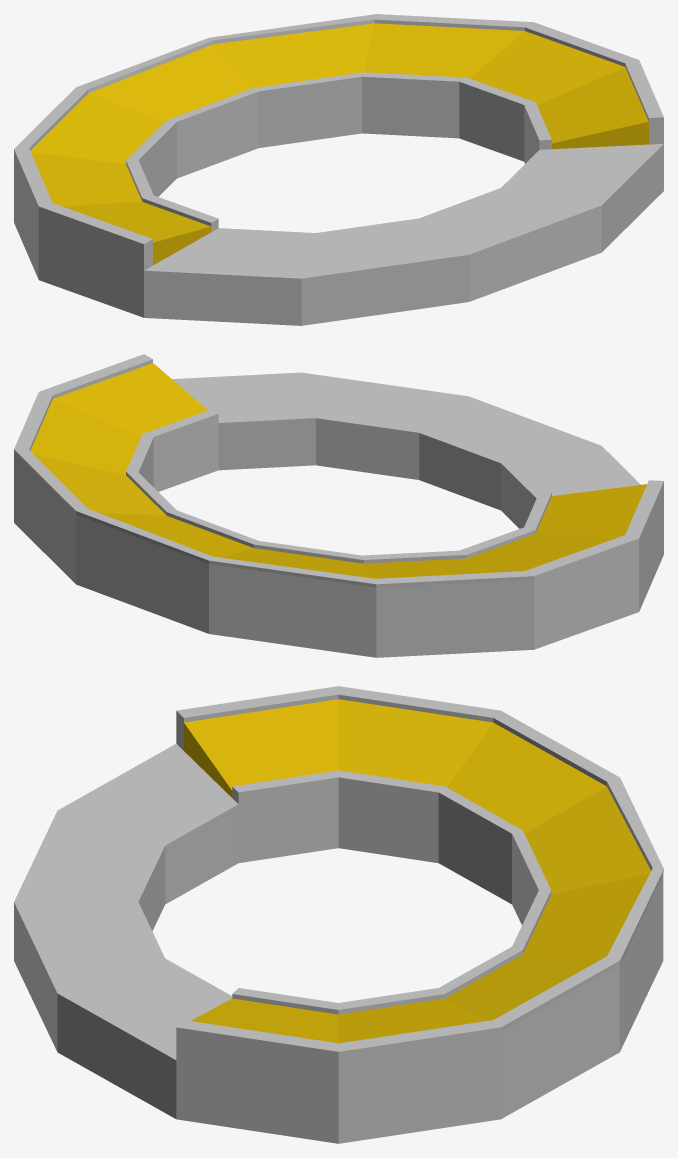
The model's file is arena_v2.fbx.
3 renders of one model, top to bottom at view 1: azimuth 30°, elevation 25°; view 2: azimuth 150°, elevation 25°; view 3: azimuth 270°, elevation 25°, orthographic. The views are drawn at different scales.
Visible parts, largest first — view 1: arena; view 2: arena; view 3: arena.
Part boxes in pixels (x1,y1,x2,y2): arena: [14, 14, 663, 325]; arena: [14, 354, 663, 657]; arena: [14, 686, 663, 1143].
Size of the model in its own units: 8644 by 1023 by 6492.
